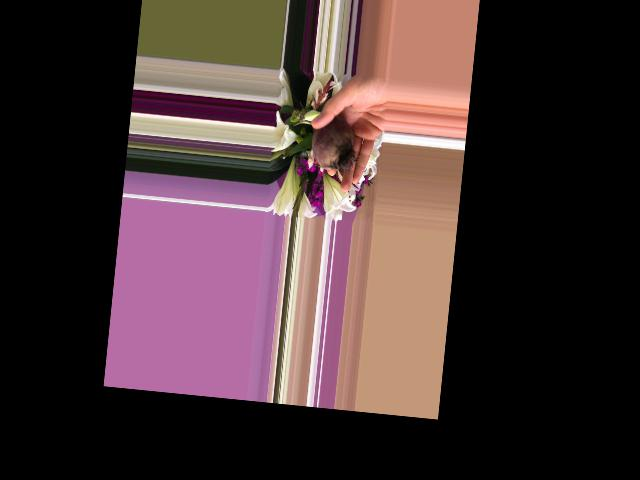beet: (289, 112, 357, 173)
